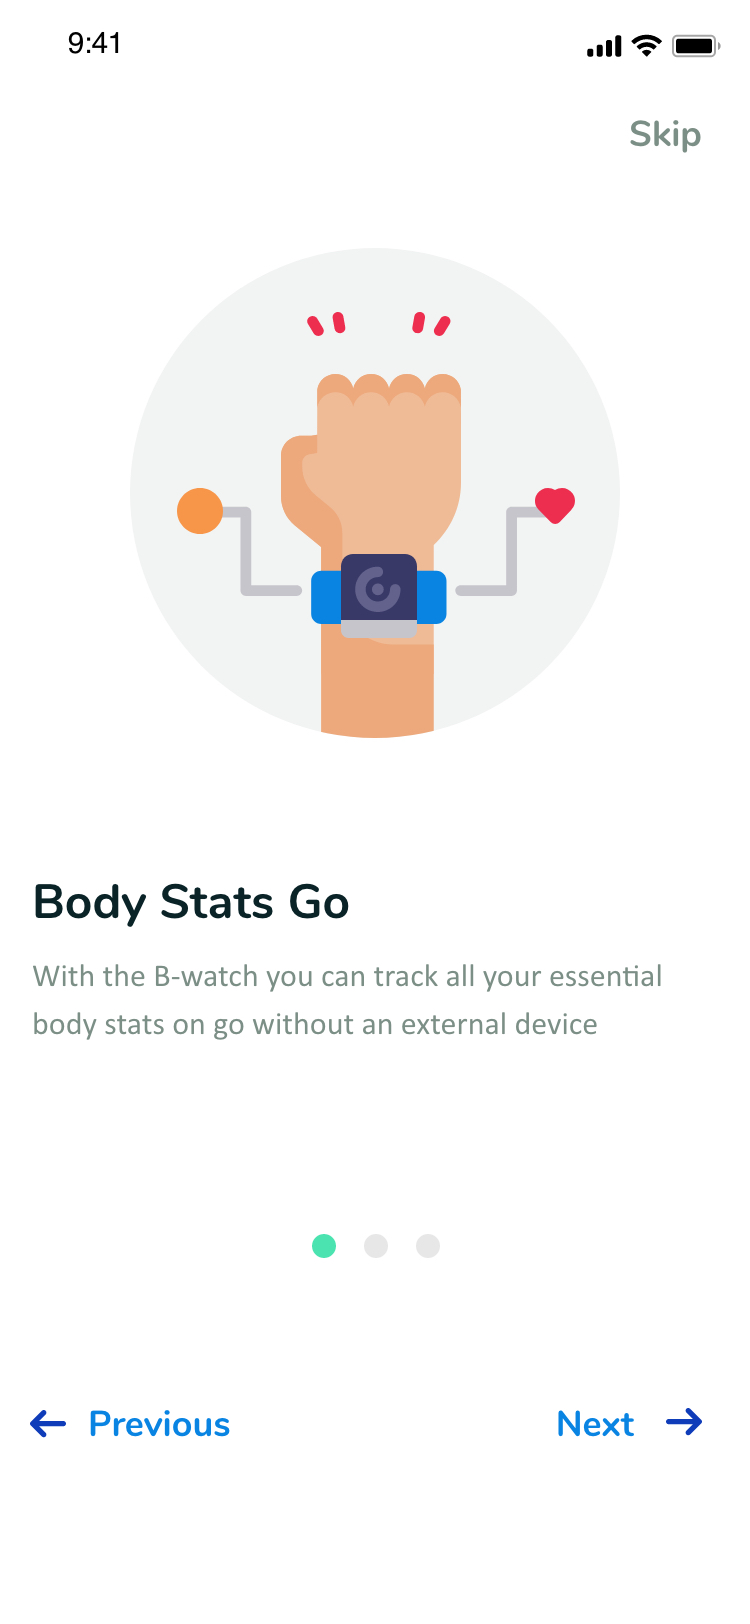Icon: (29, 1408, 69, 1440), (666, 1408, 704, 1438)
Image: (129, 247, 622, 740)
PageIndicator: (311, 1232, 442, 1260)
Text: (32, 962, 662, 1042), (35, 882, 350, 930), (89, 1408, 231, 1438), (629, 119, 702, 155), (558, 1410, 636, 1438)
UpperTaskBar: (68, 31, 722, 61)
